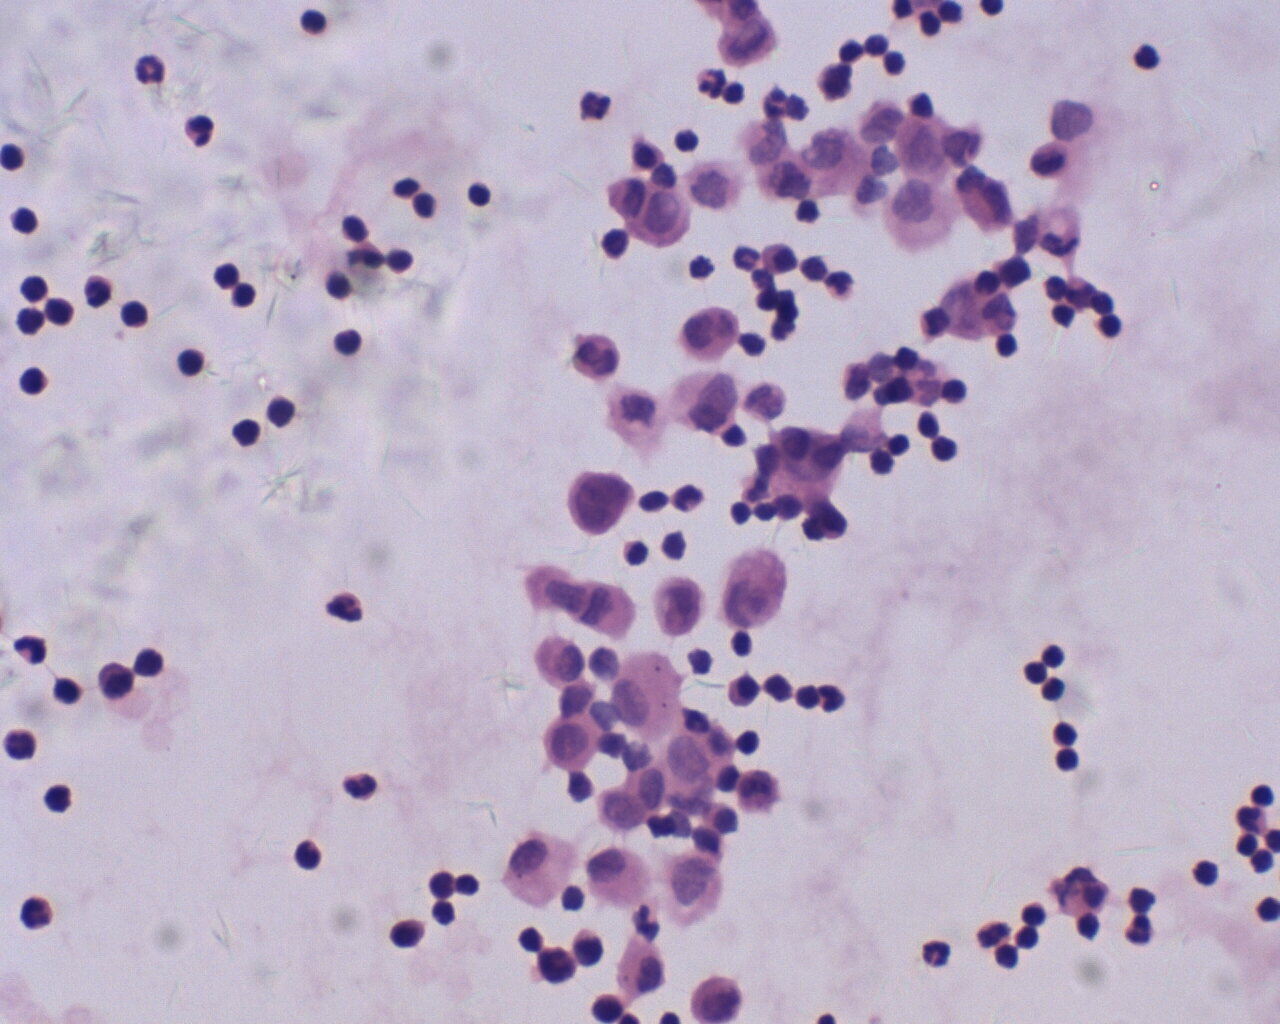ab: (562, 467, 636, 538), (628, 180, 696, 253), (648, 572, 714, 642), (535, 716, 599, 773), (686, 969, 748, 1024)
lymph: (227, 414, 266, 453), (1128, 38, 1167, 78), (8, 197, 45, 240), (17, 359, 51, 400), (261, 391, 297, 427), (171, 344, 209, 377), (329, 325, 364, 360), (1051, 744, 1088, 777), (1193, 856, 1221, 889), (466, 178, 494, 210), (940, 375, 968, 406)
meso: (610, 647, 688, 749), (506, 829, 582, 906), (588, 845, 657, 909)
neutro: (17, 888, 60, 940), (11, 630, 55, 670), (181, 110, 222, 148), (694, 61, 728, 102), (321, 588, 364, 622), (822, 267, 860, 303), (133, 52, 168, 89), (920, 937, 958, 971), (342, 771, 381, 802), (731, 240, 763, 273)
